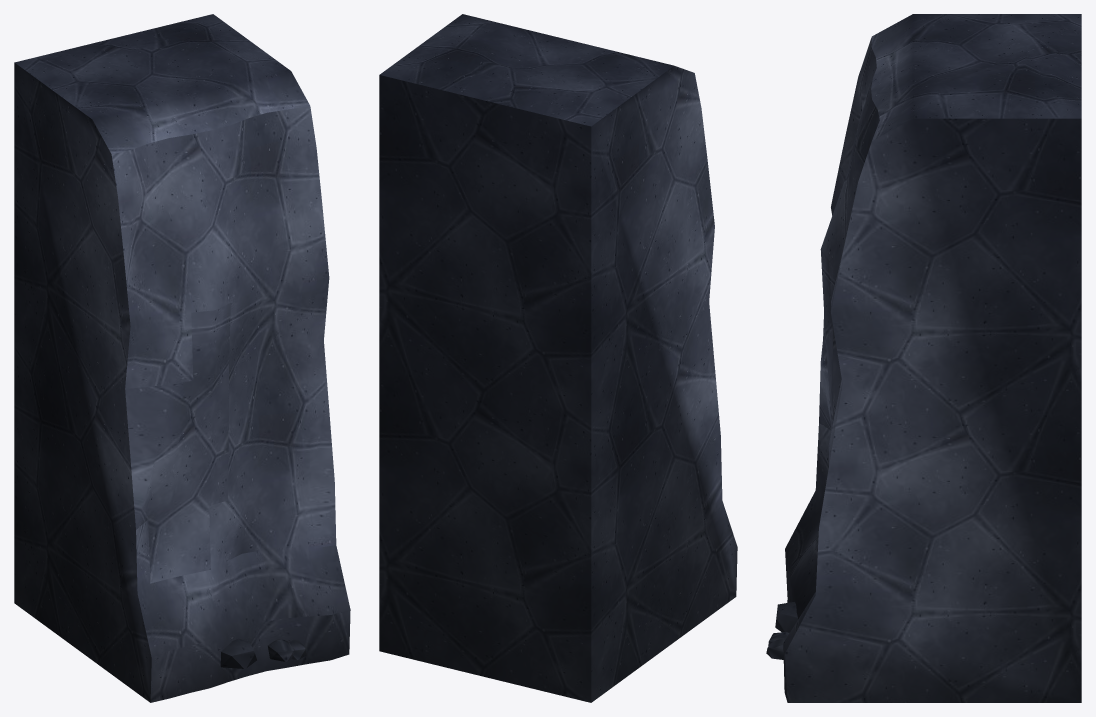
The model's file is cave_wall.glb.
3 views of the same model, side by side, from view 1: azimuth 30°, elevation 25°; view 2: azimuth 150°, elevation 25°; view 3: azimuth 270°, elevation 25° (orthographic). The views are drawn at different scales.
Parts seen in each view (by area): view 1: cave_wall; view 2: cave_wall; view 3: cave_wall.
Boxes of the visible parts, bbox=[...] form: cave_wall: bbox=[14, 14, 350, 702]; cave_wall: bbox=[379, 14, 737, 702]; cave_wall: bbox=[766, 14, 1081, 702].
Bounding box in the file's own units: 1 × 2.65 × 1.27.
Materials: 1 (1 with a texture image).
